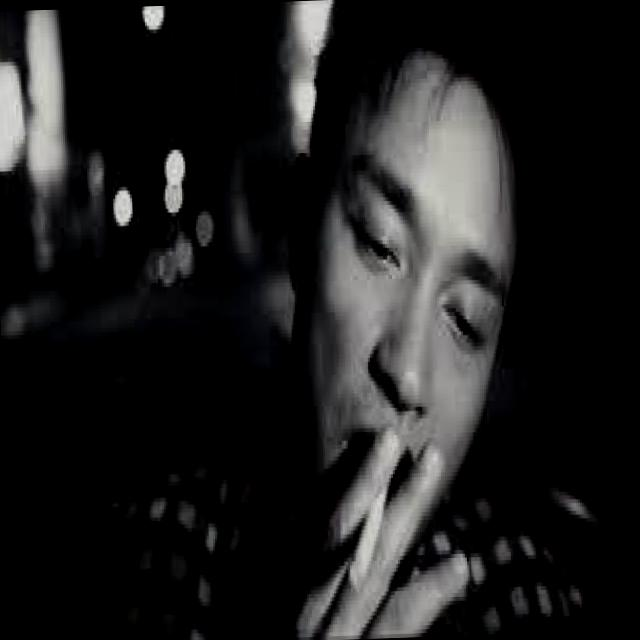smoke: (339, 431, 398, 624)
